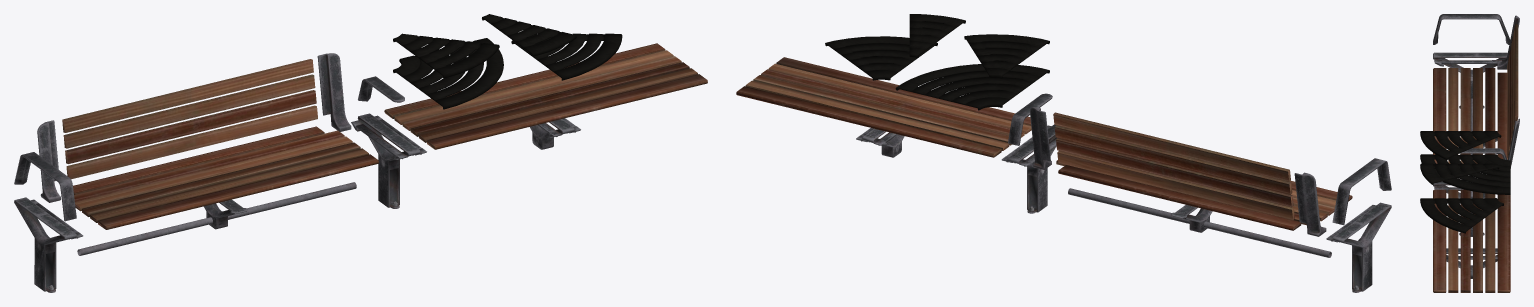
Rendered from seating.glb.
3 renders of one model, left to right at view 1: azimuth 30°, elevation 25°; view 2: azimuth 150°, elevation 25°; view 3: azimuth 270°, elevation 25°, orthographic. The views are drawn at different scales.
Parts seen in each view (by area): view 1: seat_back baked, seat baked, seat_bench baked, connector_90 baked, legs_double baked, legs_single baked, connector_45 baked, connector_60 baked, crossbar baked, connector_30 baked, back_support_l baked, arm_rest_01 baked (+4 smaller); view 2: seat_bench baked, seat_back baked, connector_90 baked, seat baked, connector_60 baked, legs_single baked, connector_45 baked, crossbar baked, legs_double baked, connector_30 baked, arm_rest_01 baked, back_support_r baked (+4 smaller); view 3: seat_bench baked, seat baked, connector_90 baked, connector_60 baked, connector_45 baked, seat_back baked, connector_30 baked, legs_single baked, arm_rest_01 baked, back_support_r baked, arm_rest_02 baked, legs_double baked (+3 smaller).
Part boxes in pixels (x1,y1,x2,y2): seat_back baked: (62, 59, 317, 179); seat baked: (73, 126, 378, 229); seat_bench baked: (384, 43, 707, 149); connector_90 baked: (393, 38, 503, 109); legs_double baked: (351, 113, 426, 208); legs_single baked: (14, 197, 83, 292); connector_45 baked: (393, 33, 499, 78); connector_60 baked: (511, 33, 622, 80); crossbar baked: (77, 182, 356, 255); connector_30 baked: (482, 14, 576, 56); back_support_l baked: (317, 53, 351, 131); arm_rest_01 baked: (14, 152, 76, 221); seat_bench baked: (736, 57, 1031, 157); seat_back baked: (1053, 112, 1294, 219); connector_90 baked: (895, 64, 1049, 110); seat baked: (1056, 160, 1352, 230); connector_60 baked: (825, 36, 937, 80); legs_single baked: (1326, 202, 1391, 292); connector_45 baked: (964, 34, 1049, 78); crossbar baked: (1068, 188, 1331, 257); legs_double baked: (1001, 124, 1057, 213); connector_30 baked: (909, 14, 965, 57); arm_rest_01 baked: (1332, 158, 1391, 225); back_support_r baked: (1294, 172, 1326, 236); seat_bench baked: (1433, 189, 1510, 292); seat baked: (1433, 68, 1507, 163); connector_90 baked: (1420, 154, 1510, 194); connector_60 baked: (1420, 198, 1503, 233); connector_45 baked: (1420, 131, 1501, 160); seat_back baked: (1507, 24, 1518, 157); connector_30 baked: (1420, 163, 1499, 184); legs_single baked: (1433, 52, 1507, 108); arm_rest_01 baked: (1433, 14, 1510, 44); back_support_r baked: (1497, 15, 1519, 69); arm_rest_02 baked: (1460, 148, 1507, 159); legs_double baked: (1433, 181, 1485, 236).
Size of the model in its own units: 4.34 by 0.95 by 0.7698.
Materials: 5 (5 with a texture image).
